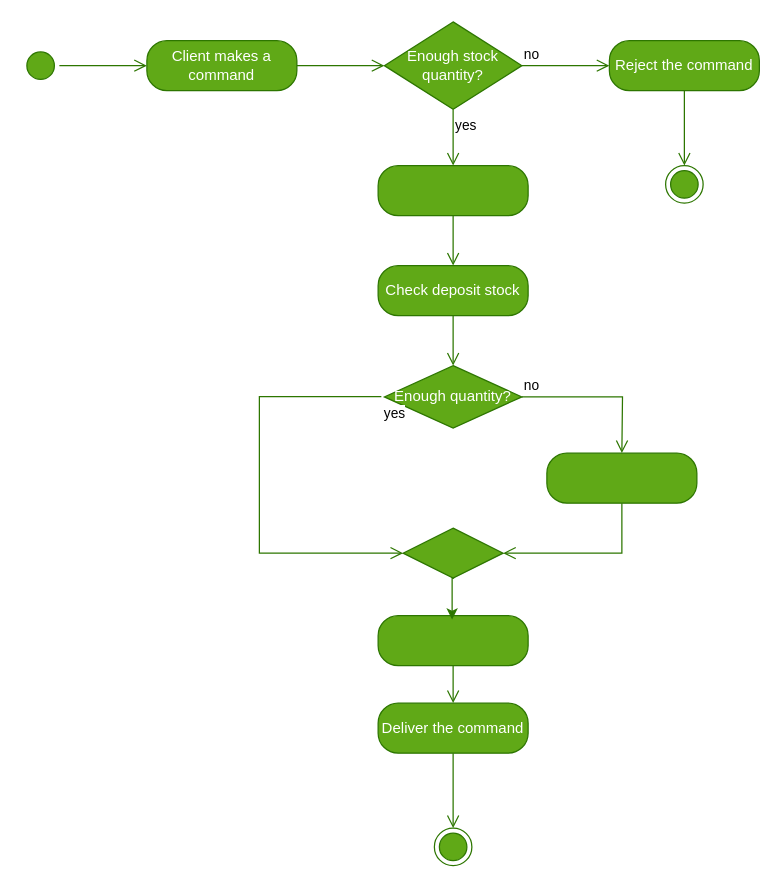
This 781x888 diagram has some shape labels left out. The shapes that lost their labels are listed below. From the top down, each one's centre as x and y in pixels, then its label:
pixel 452 190: Take the product from deposit
pixel 621 477: Command the product
pixel 452 640: Invoice issuance for client
